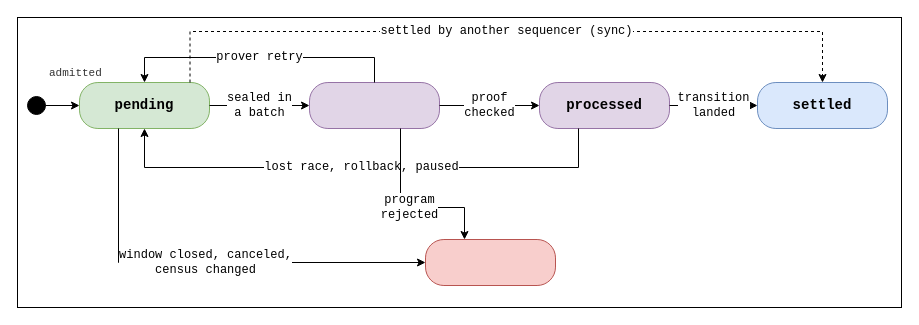
Image size: 919x325. Some labels were removed from this diagram. The centre of each missing label's shape, as x and y in pixels:
aggregated: point (374, 105)
error: point (490, 262)
